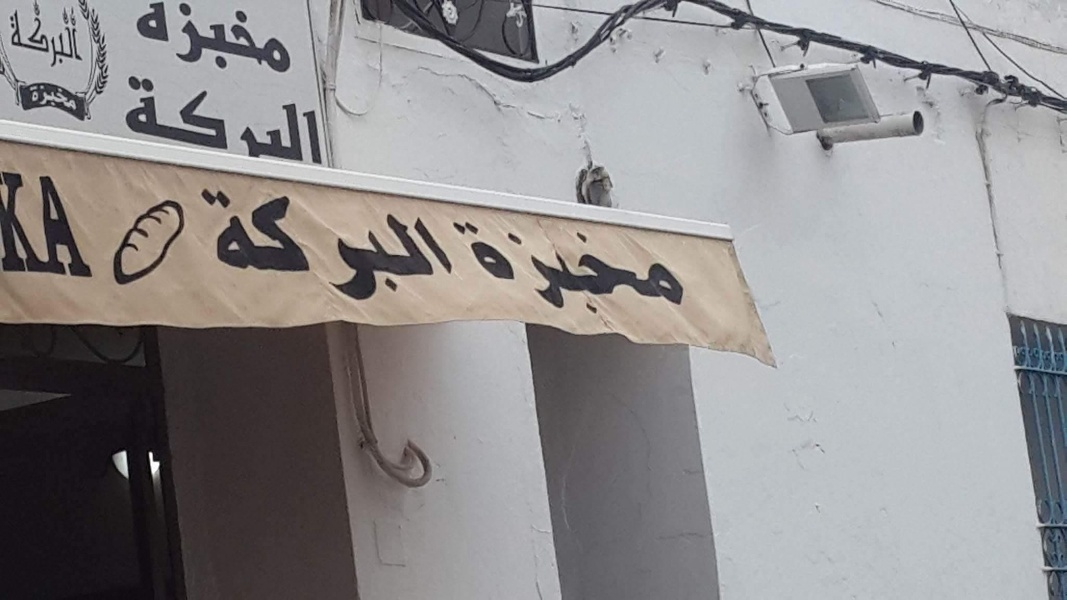text: (209, 189, 224, 305), (225, 189, 240, 305), (241, 189, 256, 305), (257, 189, 272, 305), (273, 189, 288, 305), (289, 189, 304, 305), (305, 189, 320, 305), (321, 189, 336, 305), (337, 189, 352, 305), (353, 189, 368, 305), (369, 189, 384, 305), (385, 189, 400, 305), (401, 189, 416, 305), (417, 189, 432, 305), (433, 189, 448, 305), (449, 189, 464, 305), (17, 167, 32, 280), (33, 167, 48, 280), (49, 167, 64, 280), (65, 167, 80, 280), (81, 167, 96, 280), (2, 167, 16, 280), (449, 218, 464, 323), (465, 218, 480, 323), (481, 218, 496, 323), (497, 218, 512, 323), (513, 218, 528, 323), (529, 218, 544, 323), (545, 218, 560, 323), (561, 218, 576, 323), (577, 218, 592, 323), (593, 218, 608, 323), (609, 218, 624, 323), (625, 218, 640, 323), (641, 218, 656, 323), (657, 218, 672, 323), (673, 218, 688, 323), (129, 72, 144, 166), (145, 72, 160, 166), (161, 72, 176, 166), (177, 72, 192, 166), (193, 72, 208, 166), (209, 72, 224, 166), (225, 72, 240, 166), (241, 72, 256, 166), (257, 72, 272, 166), (273, 72, 288, 166), (289, 72, 304, 166), (305, 72, 320, 166), (145, 2, 160, 80), (161, 2, 176, 80), (177, 2, 192, 80), (193, 2, 208, 80), (209, 2, 224, 80), (225, 2, 240, 80), (241, 2, 256, 80), (257, 2, 272, 80), (273, 2, 288, 80), (198, 189, 208, 305), (17, 8, 32, 72), (33, 8, 48, 72), (49, 8, 64, 72), (65, 8, 80, 72), (689, 218, 695, 323), (136, 2, 144, 80), (321, 72, 327, 166), (8, 8, 16, 72), (33, 84, 48, 112), (49, 84, 64, 112), (65, 84, 79, 112), (124, 72, 128, 166), (289, 2, 293, 80), (81, 8, 85, 72), (465, 189, 466, 305), (447, 218, 448, 323), (30, 84, 32, 112)
